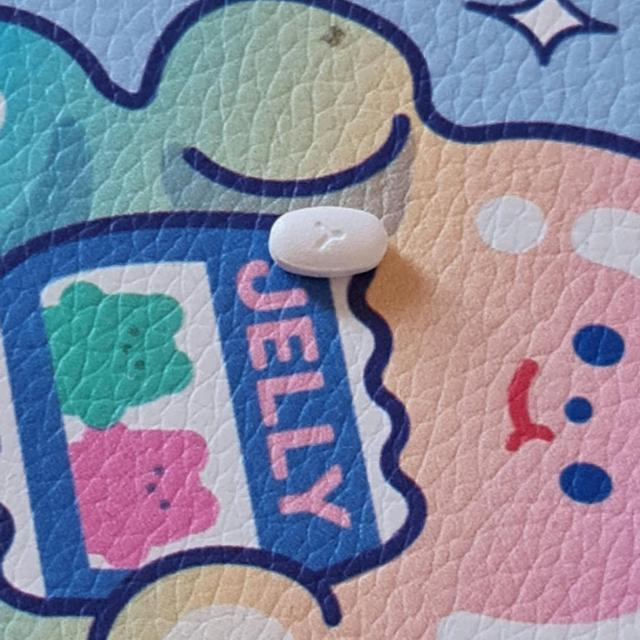pill: (272, 207, 388, 277)
